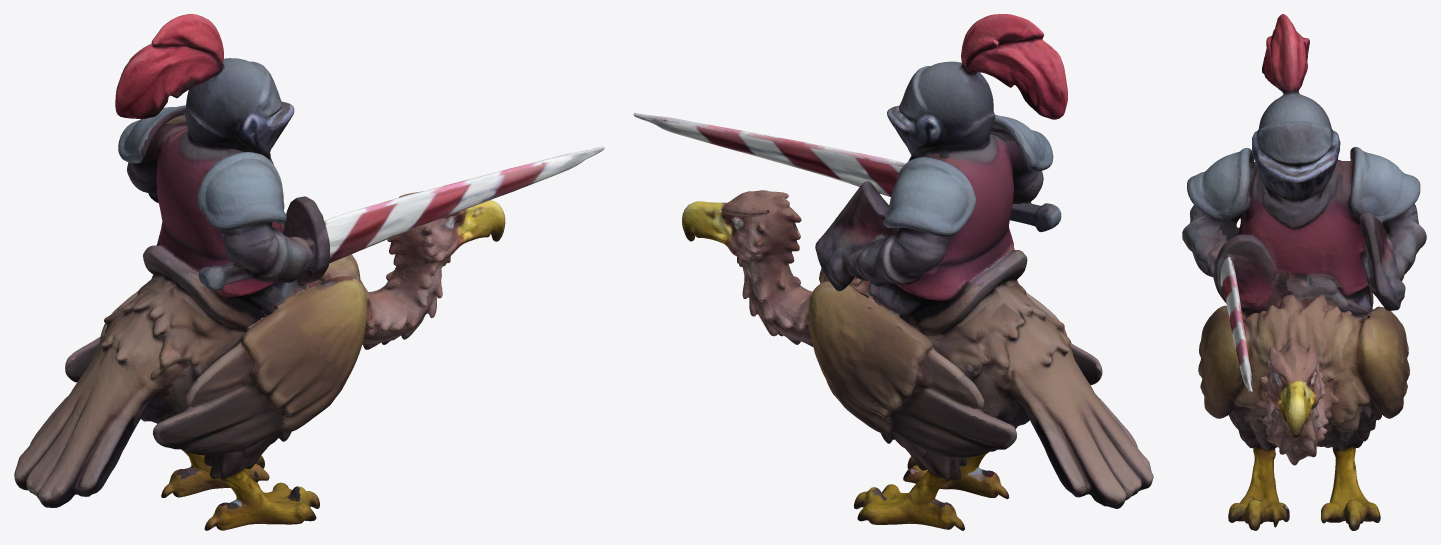
File: enemy_bounder.glb
3 views of the same model, side by side, from view 1: azimuth 30°, elevation 25°; view 2: azimuth 150°, elevation 25°; view 3: azimuth 270°, elevation 25° (orthographic). The views are drawn at different scales.
Parts seen in each view (by area): view 1: tmp6mwgiywk.ply; view 2: tmp6mwgiywk.ply; view 3: tmp6mwgiywk.ply.
Part boxes in pixels (x1=…): tmp6mwgiywk.ply: x1=14, y1=14, x2=604, y2=530; tmp6mwgiywk.ply: x1=633, y1=14, x2=1153, y2=530; tmp6mwgiywk.ply: x1=1182, y1=14, x2=1426, y2=530.
Bounding box in the file's own units: 1.99 × 1.78 × 0.8524.
Materials: 1 (1 with a texture image).
